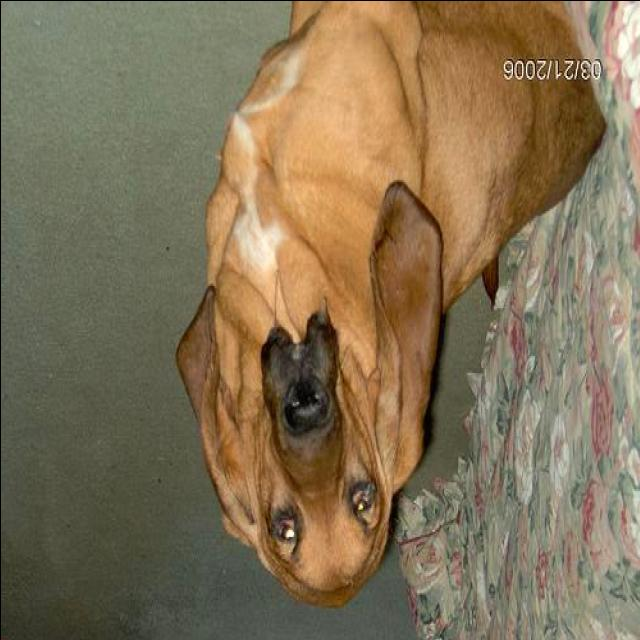bloodhound: (174, 4, 606, 608)
